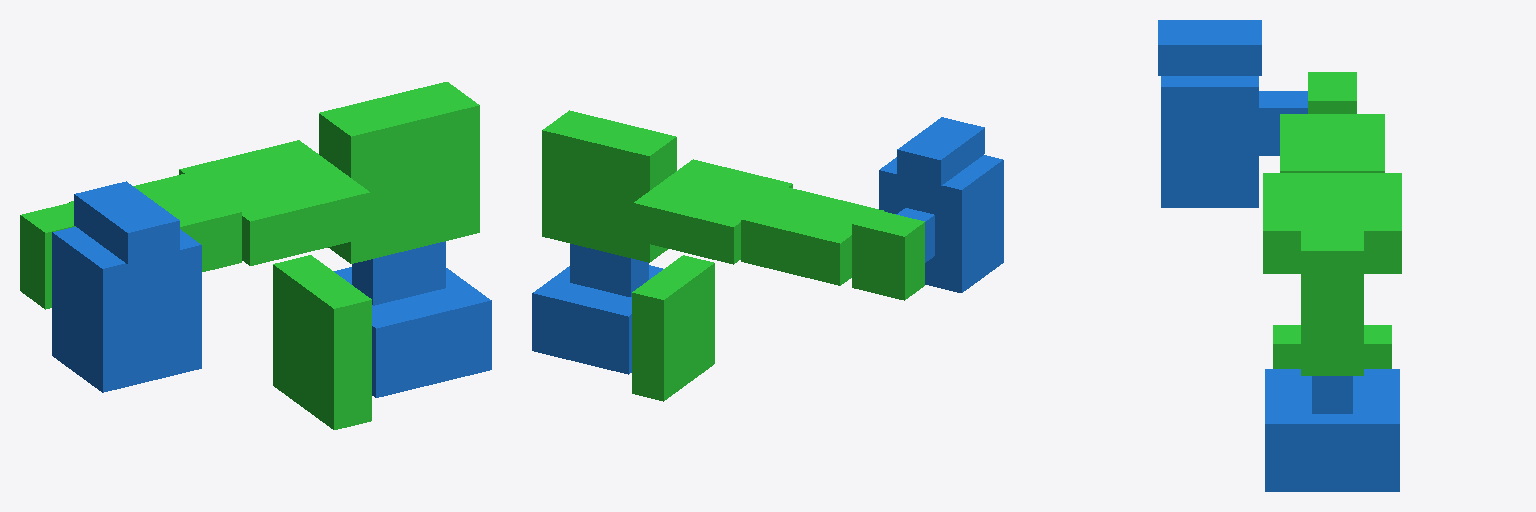
robot.urdf — robot:
<robot name = "robot">
    <link name="Link0">
        <inertial>
            <origin xyz="0 0 2" rpy="0 0 0"/>
            <mass value="0.40128227085850426" />
            <inertia ixx="100" ixy="0" ixz="0" iyy="100" iyz="0" izz="100" />
        </inertial>
        <visual>
            <origin xyz="0 0 2" rpy="0 0 0"/>
            <geometry>
                <box size="0.361245672567435 1.0080616581331086 1.1019457712872955" />
            </geometry>
            <material name="Sensor">
                <color rgba="0.239 0.875 0.282 1.0"/>
            </material>
        </visual>
        <collision>
            <origin xyz="0 0 2" rpy="0 0 0"/>
            <geometry>
                <box size="0.361245672567435 1.0080616581331086 1.1019457712872955" />
            </geometry>
        </collision>
    </link>
    <joint name="Link0_Link1" type="revolute">
       <parent link="Link0"/>
       <child  link="Link1"/>
       <origin rpy="0 0 0" xyz="0.1806228362837175 0 2" />
       <axis xyz="1 0 0"/>
       <limit effort="0.0" lower="-3.14159" upper="3.14159" velocity="0.0"/>
    </joint>
    <link name="Link1">
        <inertial>
            <origin xyz="0.5471249297847142 0 0" rpy="0 0 0"/>
            <mass value="0.7885389580807562" />
            <inertia ixx="100" ixy="0" ixz="0" iyy="100" iyz="0" izz="100" />
        </inertial>
        <visual>
            <origin xyz="0.5471249297847142 0 0" rpy="0 0 0"/>
            <geometry>
                <box size="1.0942498595694283 1.1405068324120895 0.6318423967557611" />
            </geometry>
            <material name="No Sensor">
                <color rgba="0.184 0.553 0.933 1.0"/>
            </material>
        </visual>
        <collision>
            <origin xyz="0.5471249297847142 0 0" rpy="0 0 0"/>
            <geometry>
                <box size="1.0942498595694283 1.1405068324120895 0.6318423967557611" />
            </geometry>
        </collision>
    </link>
    <joint name="Link1_Link2" type="revolute">
       <parent link="Link1"/>
       <child  link="Link2"/>
       <origin rpy="0 0 0" xyz="0.5471249297847142 0.0 0.3159211983778806" />
       <axis xyz="0 0 1"/>
       <limit effort="0.0" lower="-3.14159" upper="3.14159" velocity="0.0"/>
    </joint>
    <link name="Link2">
        <inertial>
            <origin xyz="0.0 0.0 0.23790346121561756" rpy="0 0 0"/>
            <mass value="0.11606313326553375" />
            <inertia ixx="100" ixy="0" ixz="0" iyy="100" iyz="0" izz="100" />
        </inertial>
        <visual>
            <origin xyz="0.0 0.0 0.23790346121561756" rpy="0 0 0"/>
            <geometry>
                <box size="0.6938051983665185 0.3515814759461662 0.4758069224312351" />
            </geometry>
            <material name="No Sensor">
                <color rgba="0.184 0.553 0.933 1.0"/>
            </material>
        </visual>
        <collision>
            <origin xyz="0.0 0.0 0.23790346121561756" rpy="0 0 0"/>
            <geometry>
                <box size="0.6938051983665185 0.3515814759461662 0.4758069224312351" />
            </geometry>
        </collision>
    </link>
    <joint name="Link2_Link3" type="revolute">
       <parent link="Link2"/>
       <child  link="Link3"/>
       <origin rpy="0 0 0" xyz="0.0 0.0 0.4758069224312351" />
       <axis xyz="1 0 0"/>
       <limit effort="0.0" lower="-3.14159" upper="3.14159" velocity="0.0"/>
    </joint>
    <link name="Link3">
        <inertial>
            <origin xyz="0.0 0.0 0.5786980711204986" rpy="0 0 0"/>
            <mass value="0.7557185665078421" />
            <inertia ixx="100" ixy="0" ixz="0" iyy="100" iyz="0" izz="100" />
        </inertial>
        <visual>
            <origin xyz="0.0 0.0 0.5786980711204986" rpy="0 0 0"/>
            <geometry>
                <box size="1.221320469273211 0.5346239689687354 1.1573961422409973" />
            </geometry>
            <material name="Sensor">
                <color rgba="0.239 0.875 0.282 1.0"/>
            </material>
        </visual>
        <collision>
            <origin xyz="0.0 0.0 0.5786980711204986" rpy="0 0 0"/>
            <geometry>
                <box size="1.221320469273211 0.5346239689687354 1.1573961422409973" />
            </geometry>
        </collision>
    </link>
    <joint name="Link3_Link4" type="revolute">
       <parent link="Link3"/>
       <child  link="Link4"/>
       <origin rpy="0 0 0" xyz="-0.6106602346366055 0.0 0.5786980711204986" />
       <axis xyz="0 0 1"/>
       <limit effort="0.0" lower="-3.14159" upper="3.14159" velocity="0.0"/>
    </joint>
    <link name="Link4">
        <inertial>
            <origin xyz="-0.5702761431891555 0.0 0.0" rpy="0 0 0"/>
            <mass value="0.5431449030947888" />
            <inertia ixx="100" ixy="0" ixz="0" iyy="100" iyz="0" izz="100" />
        </inertial>
        <visual>
            <origin xyz="-0.5702761431891555 0.0 0.0" rpy="0 0 0"/>
            <geometry>
                <box size="1.140552286378311 1.1725044972603933 0.40614956444079475" />
            </geometry>
            <material name="Sensor">
                <color rgba="0.239 0.875 0.282 1.0"/>
            </material>
        </visual>
        <collision>
            <origin xyz="-0.5702761431891555 0.0 0.0" rpy="0 0 0"/>
            <geometry>
                <box size="1.140552286378311 1.1725044972603933 0.40614956444079475" />
            </geometry>
        </collision>
    </link>
    <joint name="Link4_Link5" type="revolute">
       <parent link="Link4"/>
       <child  link="Link5"/>
       <origin rpy="0 0 0" xyz="-1.140552286378311 0.0 0.0" />
       <axis xyz="1 0 0"/>
       <limit effort="0.0" lower="-3.14159" upper="3.14159" velocity="0.0"/>
    </joint>
    <link name="Link5">
        <inertial>
            <origin xyz="-0.5648610717506904 0.0 0.0" rpy="0 0 0"/>
            <mass value="0.45897416672958585" />
            <inertia ixx="100" ixy="0" ixz="0" iyy="100" iyz="0" izz="100" />
        </inertial>
        <visual>
            <origin xyz="-0.5648610717506904 0.0 0.0" rpy="0 0 0"/>
            <geometry>
                <box size="1.129722143501381 0.8819949504631371 0.46062817841880244" />
            </geometry>
            <material name="Sensor">
                <color rgba="0.239 0.875 0.282 1.0"/>
            </material>
        </visual>
        <collision>
            <origin xyz="-0.5648610717506904 0.0 0.0" rpy="0 0 0"/>
            <geometry>
                <box size="1.129722143501381 0.8819949504631371 0.46062817841880244" />
            </geometry>
        </collision>
    </link>
    <joint name="Link5_Link6" type="revolute">
       <parent link="Link5"/>
       <child  link="Link6"/>
       <origin rpy="0 0 0" xyz="-1.129722143501381 0.0 0.0" />
       <axis xyz="0 1 0"/>
       <limit effort="0.0" lower="-3.14159" upper="3.14159" velocity="0.0"/>
    </joint>
    <link name="Link6">
        <inertial>
            <origin xyz="-0.2975579573900406 0.0 0.0" rpy="0 0 0"/>
            <mass value="0.16938567395932283" />
            <inertia ixx="100" ixy="0" ixz="0" iyy="100" iyz="0" izz="100" />
        </inertial>
        <visual>
            <origin xyz="-0.2975579573900406 0.0 0.0" rpy="0 0 0"/>
            <geometry>
                <box size="0.5951159147800812 0.4099187885892832 0.6943481574461272" />
            </geometry>
            <material name="Sensor">
                <color rgba="0.239 0.875 0.282 1.0"/>
            </material>
        </visual>
        <collision>
            <origin xyz="-0.2975579573900406 0.0 0.0" rpy="0 0 0"/>
            <geometry>
                <box size="0.5951159147800812 0.4099187885892832 0.6943481574461272" />
            </geometry>
        </collision>
    </link>
    <joint name="Link6_Link7" type="revolute">
       <parent link="Link6"/>
       <child  link="Link7"/>
       <origin rpy="0 0 0" xyz="-0.2975579573900406 -0.2049593942946416 0.0" />
       <axis xyz="1 0 0"/>
       <limit effort="0.0" lower="-3.14159" upper="3.14159" velocity="0.0"/>
    </joint>
    <link name="Link7">
        <inertial>
            <origin xyz="0.0 -0.20765924524011992 0.0" rpy="0 0 0"/>
            <mass value="0.06199165888464633" />
            <inertia ixx="100" ixy="0" ixz="0" iyy="100" iyz="0" izz="100" />
        </inertial>
        <visual>
            <origin xyz="0.0 -0.20765924524011992 0.0" rpy="0 0 0"/>
            <geometry>
                <box size="0.3337749538454605 0.41531849048023983 0.4471963464666693" />
            </geometry>
            <material name="No Sensor">
                <color rgba="0.184 0.553 0.933 1.0"/>
            </material>
        </visual>
        <collision>
            <origin xyz="0.0 -0.20765924524011992 0.0" rpy="0 0 0"/>
            <geometry>
                <box size="0.3337749538454605 0.41531849048023983 0.4471963464666693" />
            </geometry>
        </collision>
    </link>
    <joint name="Link7_Link8" type="revolute">
       <parent link="Link7"/>
       <child  link="Link8"/>
       <origin rpy="0 0 0" xyz="0.0 -0.41531849048023983 0.0" />
       <axis xyz="0 1 0"/>
       <limit effort="0.0" lower="-3.14159" upper="3.14159" velocity="0.0"/>
    </joint>
    <link name="Link8">
        <inertial>
            <origin xyz="0.0 -0.4119014345826765 0.0" rpy="0 0 0"/>
            <mass value="0.8708237101805892" />
            <inertia ixx="100" ixy="0" ixz="0" iyy="100" iyz="0" izz="100" />
        </inertial>
        <visual>
            <origin xyz="0.0 -0.4119014345826765 0.0" rpy="0 0 0"/>
            <geometry>
                <box size="0.9410273415567042 0.823802869165353 1.123323134036732" />
            </geometry>
            <material name="No Sensor">
                <color rgba="0.184 0.553 0.933 1.0"/>
            </material>
        </visual>
        <collision>
            <origin xyz="0.0 -0.4119014345826765 0.0" rpy="0 0 0"/>
            <geometry>
                <box size="0.9410273415567042 0.823802869165353 1.123323134036732" />
            </geometry>
        </collision>
    </link>
    <joint name="Link8_Link9" type="revolute">
       <parent link="Link8"/>
       <child  link="Link9"/>
       <origin rpy="0 0 0" xyz="0.0 -0.4119014345826765 0.561661567018366" />
       <axis xyz="1 0 0"/>
       <limit effort="0.0" lower="-3.14159" upper="3.14159" velocity="0.0"/>
    </joint>
    <link name="Link9">
        <inertial>
            <origin xyz="0.0 0.0 0.1422156326535478" rpy="0 0 0"/>
            <mass value="0.12375150966401151" />
            <inertia ixx="100" ixy="0" ixz="0" iyy="100" iyz="0" izz="100" />
        </inertial>
        <visual>
            <origin xyz="0.0 0.0 0.1422156326535478" rpy="0 0 0"/>
            <geometry>
                <box size="0.4946340657192081 0.8796079567189131 0.2844312653070956" />
            </geometry>
            <material name="No Sensor">
                <color rgba="0.184 0.553 0.933 1.0"/>
            </material>
        </visual>
        <collision>
            <origin xyz="0.0 0.0 0.1422156326535478" rpy="0 0 0"/>
            <geometry>
                <box size="0.4946340657192081 0.8796079567189131 0.2844312653070956" />
            </geometry>
        </collision>
    </link>
</robot>

--- What the picture shows (computed from the rendered views, not written in the file) ---
The picture shows the robot from 3 angles, left to right: view 1: azimuth 30°, elevation 25°; view 2: azimuth 150°, elevation 25°; view 3: azimuth 270°, elevation 25°; orthographic projection.
Model robot with 10 links and 9 joints (9 revolute), rooted at Link0, posed all joints at 0.
Links seen in each view (by area): view 1: Link3, Link8, Link0, Link4, Link1, Link9, Link5, Link2, Link6; view 2: Link3, Link8, Link0, Link4, Link5, Link1, Link6, Link9, Link2, Link7; view 3: Link1, Link8, Link3, Link4, Link5, Link9, Link0, Link6, Link7, Link2.
Boxes of the visible links, left/top/right/bottom form: Link3: left=319, top=82, right=479, bottom=263; Link8: left=52, top=227, right=201, bottom=392; Link0: left=273, top=255, right=371, bottom=429; Link4: left=179, top=140, right=370, bottom=265; Link1: left=334, top=267, right=491, bottom=397; Link9: left=74, top=181, right=179, bottom=263; Link5: left=69, top=173, right=241, bottom=271; Link2: left=352, top=241, right=445, bottom=305; Link6: left=20, top=202, right=75, bottom=309; Link3: left=542, top=110, right=676, bottom=262; Link8: left=879, top=155, right=1003, bottom=292; Link0: left=632, top=255, right=714, bottom=401; Link4: left=633, top=159, right=792, bottom=264; Link5: left=741, top=187, right=884, bottom=285; Link1: left=532, top=265, right=662, bottom=374; Link6: left=852, top=209, right=924, bottom=300; Link9: left=897, top=117, right=984, bottom=185; Link2: left=570, top=244, right=648, bottom=296; Link7: left=896, top=208, right=934, bottom=262; Link1: left=1265, top=369, right=1399, bottom=491; Link8: left=1161, top=76, right=1258, bottom=207; Link3: left=1301, top=190, right=1363, bottom=375; Link4: left=1263, top=173, right=1401, bottom=273; Link5: left=1280, top=114, right=1384, bottom=172; Link9: left=1158, top=20, right=1261, bottom=75; Link0: left=1273, top=325, right=1391, bottom=368; Link6: left=1308, top=72, right=1356, bottom=113; Link7: left=1259, top=91, right=1307, bottom=155; Link2: left=1312, top=376, right=1352, bottom=413.
Size in the robot's own frame: 4.26 by 2.06 by 2.77 metres.
Geometry: primitives only (box / cylinder / sphere), no mesh files.